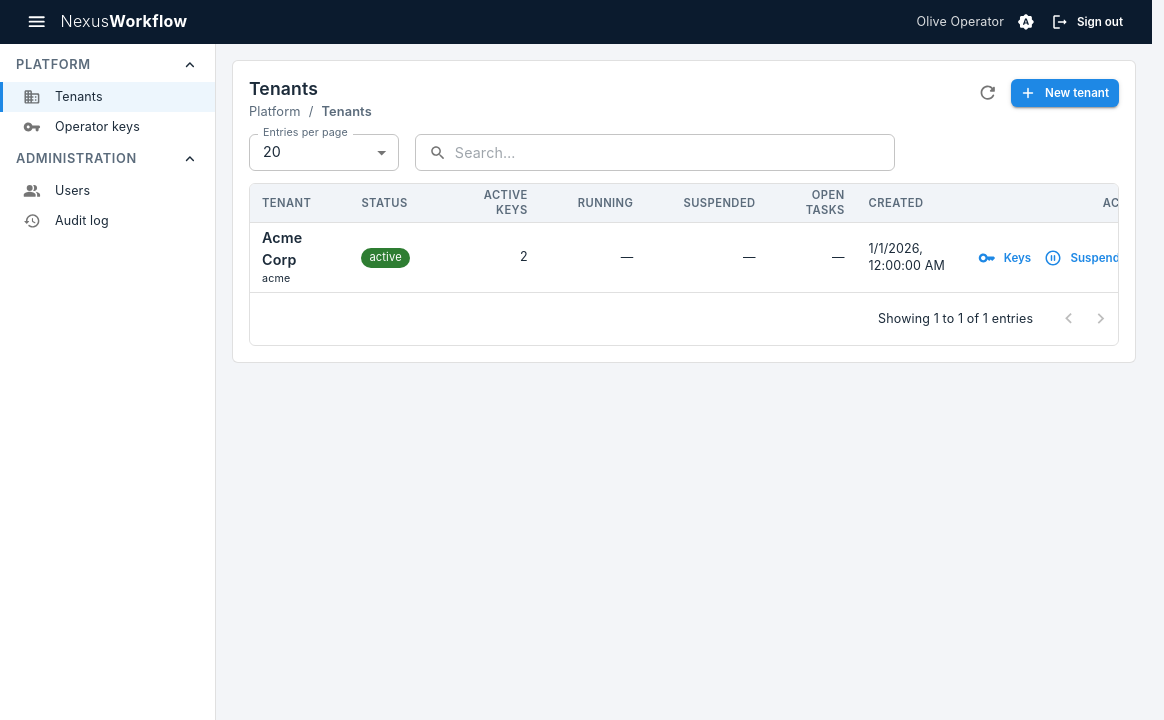
Test: what each role sees › an operator gets the Tenants and Users screens
This screenshot has width=1164, height=720.
Expected: the heading "Tenants" is shown, [249,78,318,99]
What coordinates should you click on to do the following:
click the button "Users"
I would click on:
 (57, 191)
Its box is [23,182,90,200].
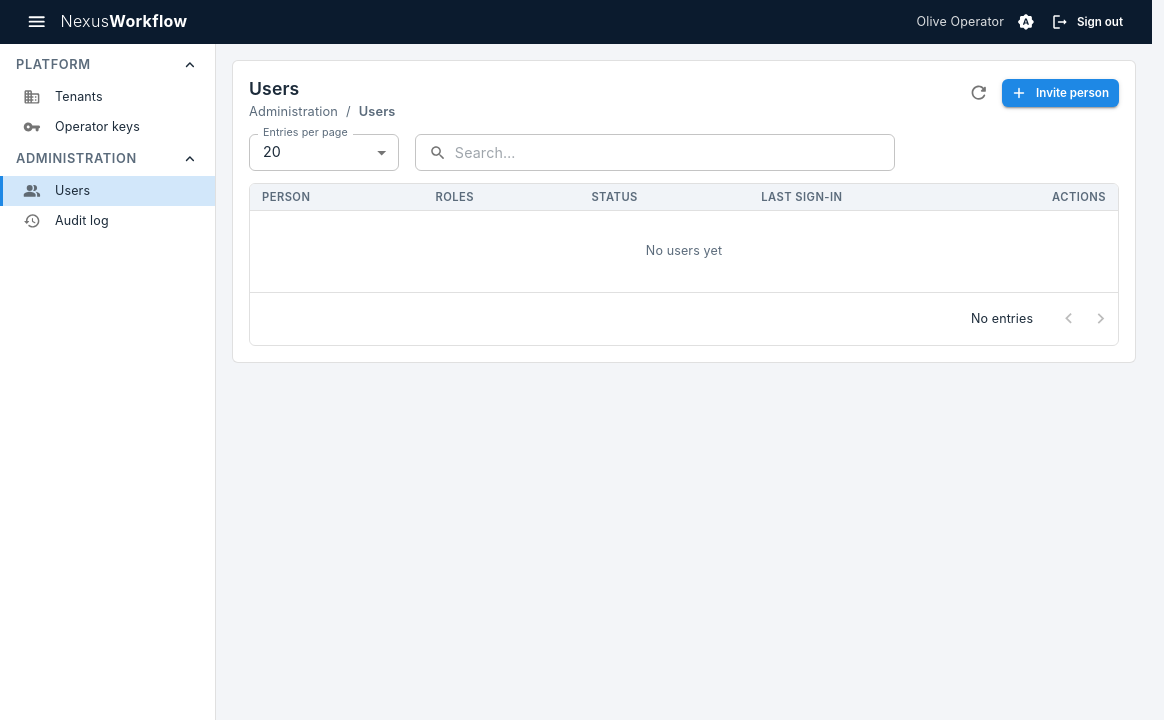
Now the heading "Users" is shown, box [249,78,299,99]
